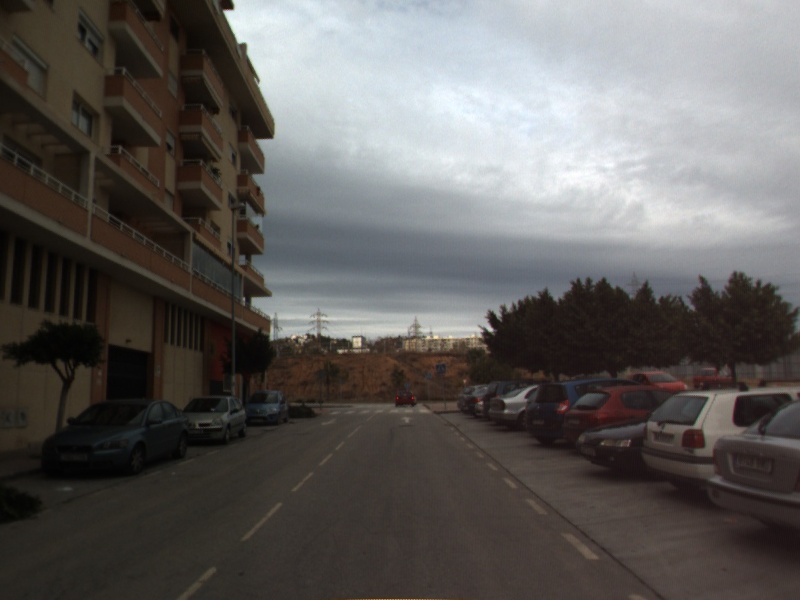STRAIGHT: (399, 414, 416, 425)
